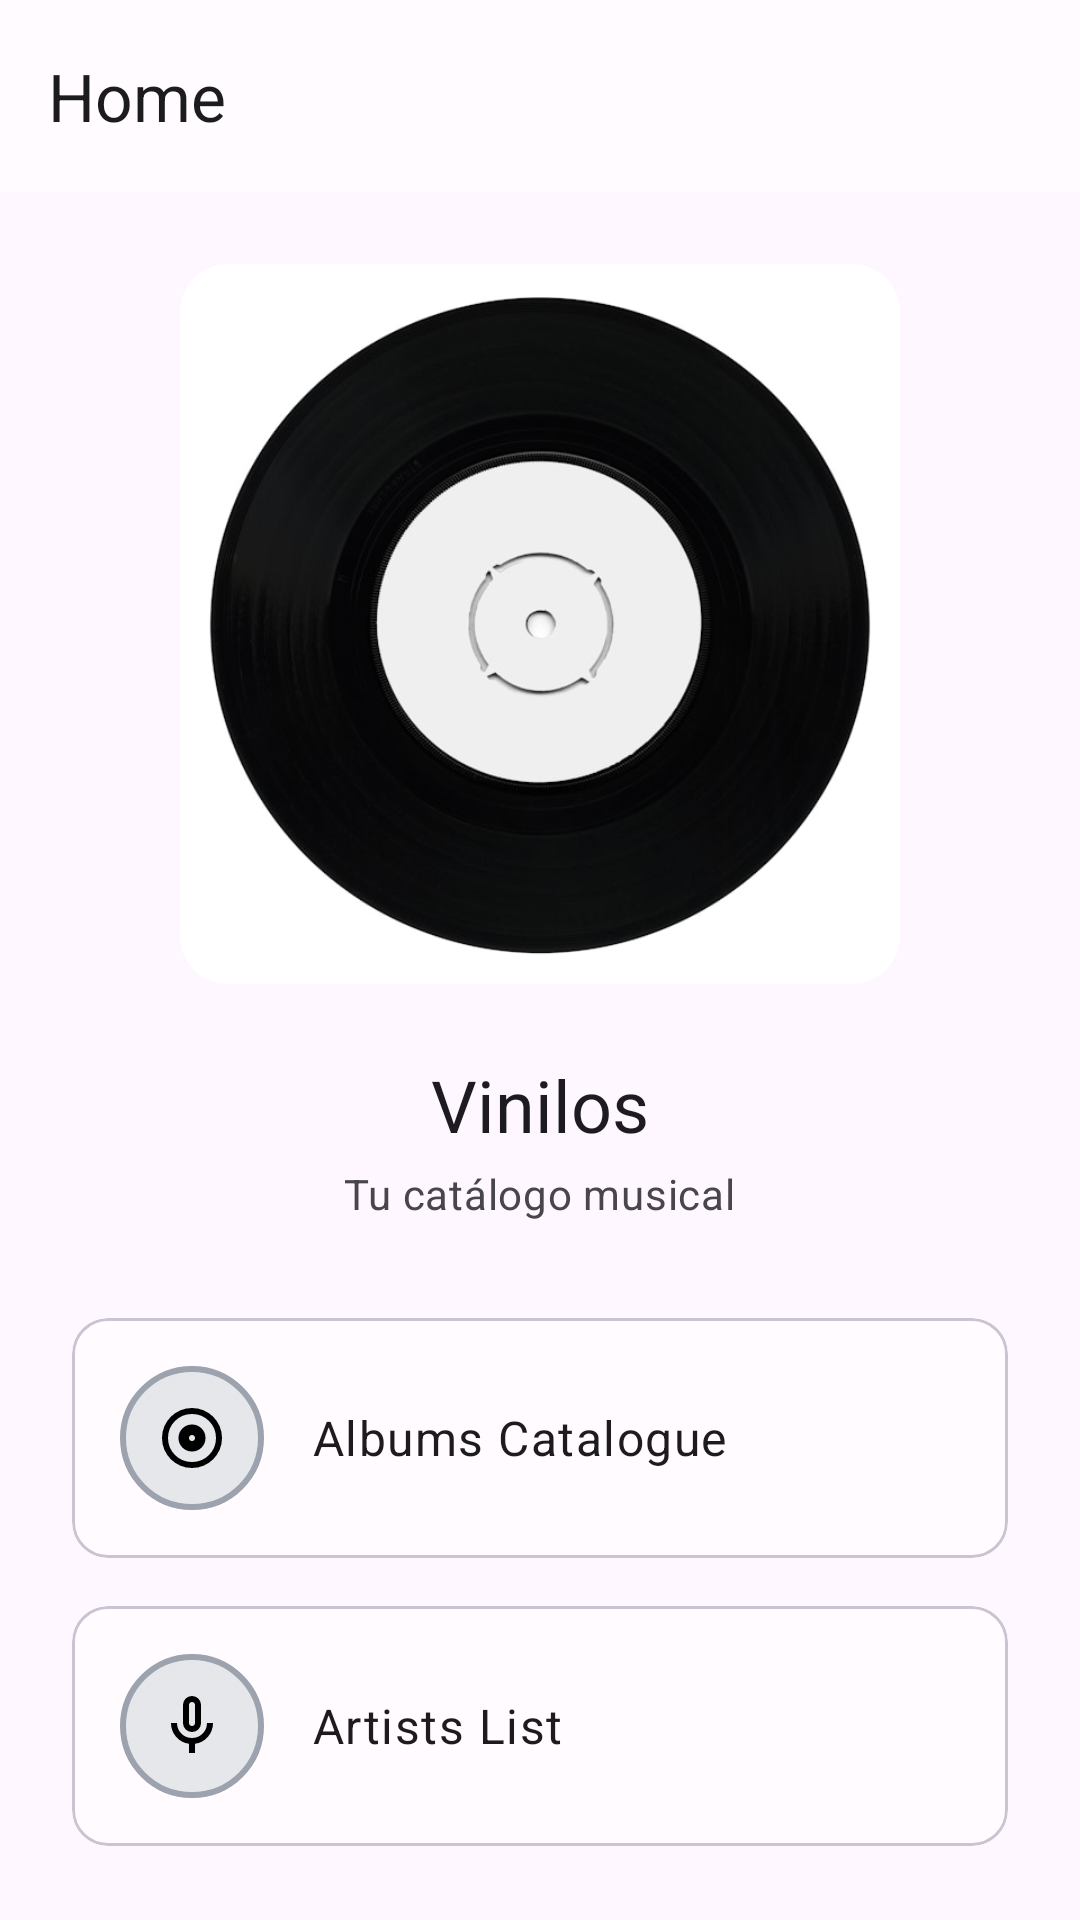

Point at icon controls on the screen. Image size 1080w x 1920h, points as (x,y).
disc: (192,1438)
mic: (192,1726)
